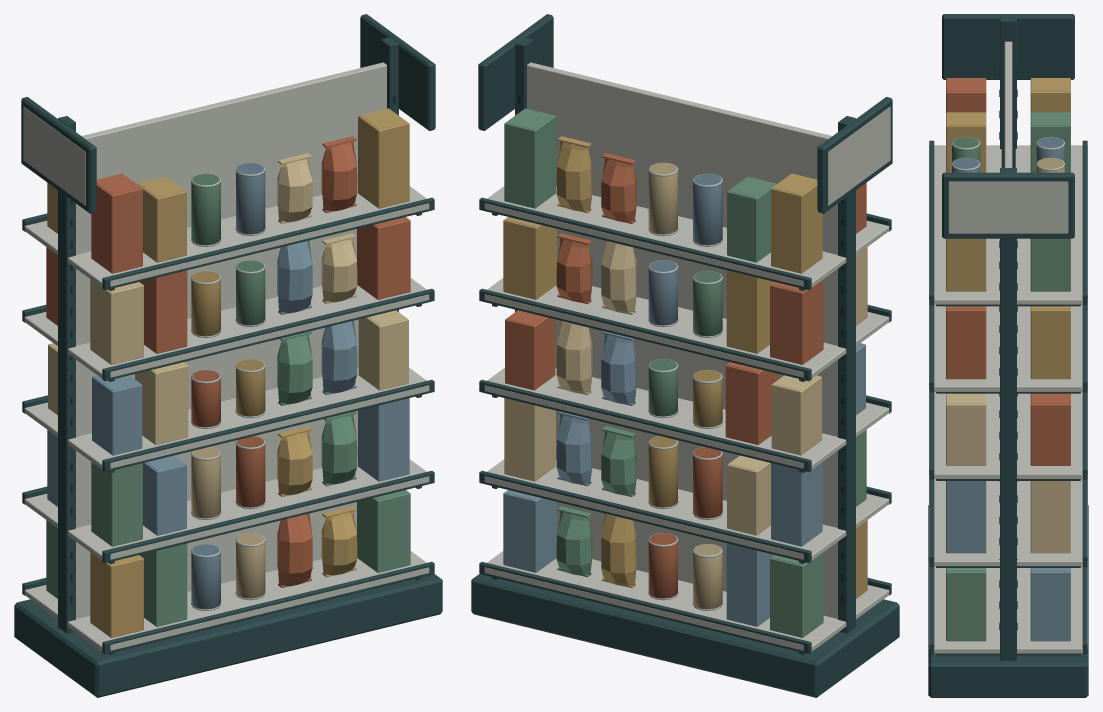
The picture shows the model from 3 angles, left to right: view 1: azimuth 30°, elevation 25°; view 2: azimuth 150°, elevation 25°; view 3: azimuth 270°, elevation 25°; orthographic projection. The views are drawn at different scales.
Visible parts, largest first — view 1: BATCH_Powdercoat, BATCH_PlainPackaging, BATCH_SatinMetal; view 2: BATCH_Powdercoat, BATCH_PlainPackaging, BATCH_SatinMetal; view 3: BATCH_Powdercoat, BATCH_PlainPackaging, BATCH_SatinMetal.
Part boxes in pixels (x1,y1,x2,y2): BATCH_Powdercoat: [14, 14, 442, 697]; BATCH_PlainPackaging: [46, 108, 410, 637]; BATCH_SatinMetal: [191, 162, 265, 610]; BATCH_Powdercoat: [471, 14, 899, 697]; BATCH_PlainPackaging: [503, 108, 867, 637]; BATCH_SatinMetal: [648, 162, 722, 610]; BATCH_Powdercoat: [928, 14, 1088, 697]; BATCH_PlainPackaging: [946, 78, 1070, 641]; BATCH_SatinMetal: [951, 136, 1065, 170].
Bounding box in the file's own units: 1.2 × 1.8 × 0.5.
